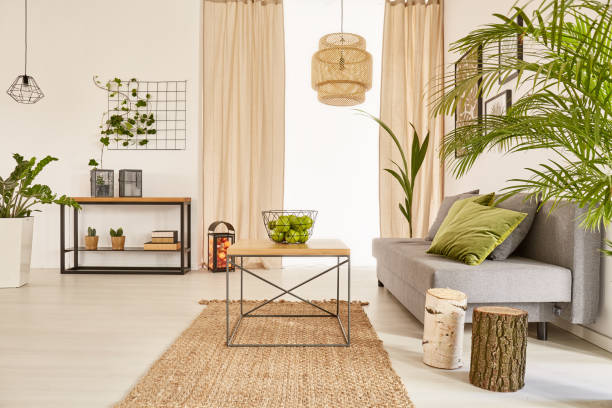large plant: (354, 105, 431, 239), (0, 146, 62, 290)
small plant: (105, 227, 125, 249), (83, 223, 99, 249)
sofa: (368, 188, 604, 340)
table: (222, 240, 353, 350), (55, 193, 193, 279)
wall art: (450, 42, 483, 155), (497, 12, 525, 84), (482, 88, 513, 142)
